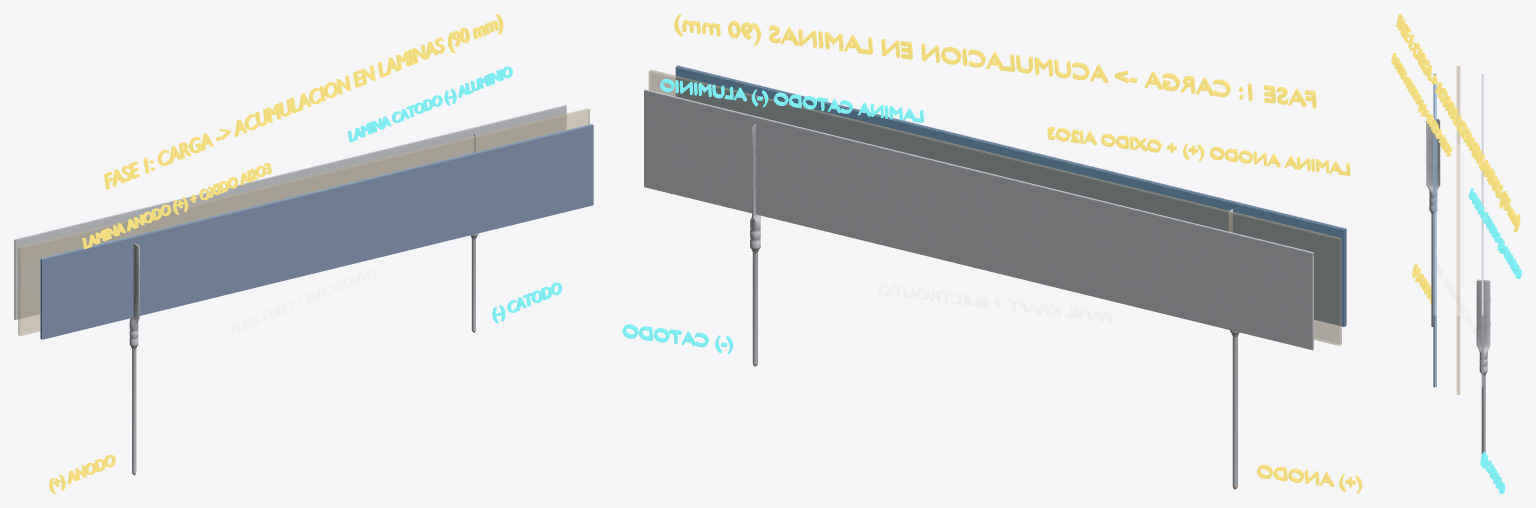
Rendered from 02_Capacitor_Sin_Carcasa_Carga_Campo_Descarga.glb.
3 views of the same model, side by side, from view 1: azimuth 30°, elevation 25°; view 2: azimuth 150°, elevation 25°; view 3: azimuth 270°, elevation 25° (orthographic). The views are drawn at different scales.
Visible parts, largest first — view 1: Lamina_01_Anodo_Al_90mm, Lamina_04_Catodo_Al_90mm, Lamina_03_Papel_Kraft_93mm, Lbl_Est_Carga, Lbl_Anodo_L, Lbl_Catodo_L, Lbl_Kraft_L, 01_Terminal_Anodo_Pos, Lamina_02_Oxido_Al2O3_90mm, Lbl_Pin_Neg, Lbl_Pin_Pos; view 2: Lamina_04_Catodo_Al_90mm, Lamina_02_Oxido_Al2O3_90mm, Lamina_03_Papel_Kraft_93mm, Lbl_Est_Carga, Lbl_Anodo_L, Lbl_Catodo_L, Lbl_Kraft_L, Lamina_01_Anodo_Al_90mm, 01_Terminal_Catodo_Neg, 01_Terminal_Anodo_Pos, Lbl_Pin_Neg, Lbl_Pin_Pos; view 3: Lbl_Est_Carga, Lamina_03_Papel_Kraft_93mm, 01_Terminal_Catodo_Neg, 01_Terminal_Anodo_Pos, Lbl_Anodo_L, Lamina_01_Anodo_Al_90mm, Lbl_Catodo_L, Lamina_04_Catodo_Al_90mm, Lbl_Kraft_L, Lamina_02_Oxido_Al2O3_90mm, Lbl_Pin_Neg, Lbl_Pin_Pos.
Boxes of the visible parts, left/top/right/bottom form: Lamina_01_Anodo_Al_90mm: left=41, top=124, right=593, bottom=339; Lamina_04_Catodo_Al_90mm: left=14, top=105, right=566, bottom=319; Lamina_03_Papel_Kraft_93mm: left=18, top=108, right=589, bottom=336; Lbl_Est_Carga: left=104, top=14, right=503, bottom=189; Lbl_Anodo_L: left=82, top=163, right=271, bottom=248; Lbl_Catodo_L: left=347, top=66, right=512, bottom=142; Lbl_Kraft_L: left=230, top=267, right=376, bottom=334; 01_Terminal_Anodo_Pos: left=129, top=243, right=139, bottom=475; Lamina_02_Oxido_Al2O3_90mm: left=40, top=124, right=591, bottom=338; Lbl_Pin_Neg: left=492, top=282, right=562, bottom=323; Lbl_Pin_Pos: left=49, top=454, right=115, bottom=493; Lamina_04_Catodo_Al_90mm: left=644, top=89, right=1313, bottom=350; Lamina_02_Oxido_Al2O3_90mm: left=675, top=66, right=1344, bottom=326; Lamina_03_Papel_Kraft_93mm: left=648, top=69, right=1341, bottom=345; Lbl_Est_Carga: left=674, top=14, right=1316, bottom=108; Lbl_Anodo_L: left=1047, top=126, right=1350, bottom=175; Lbl_Catodo_L: left=660, top=78, right=923, bottom=122; Lbl_Kraft_L: left=878, top=282, right=1111, bottom=322; Lamina_01_Anodo_Al_90mm: left=677, top=65, right=1346, bottom=326; 01_Terminal_Catodo_Neg: left=750, top=124, right=760, bottom=366; 01_Terminal_Anodo_Pos: left=1228, top=209, right=1239, bottom=489; Lbl_Pin_Neg: left=622, top=324, right=733, bottom=354; Lbl_Pin_Pos: left=1257, top=464, right=1362, bottom=493; Lbl_Est_Carga: left=1396, top=14, right=1520, bottom=231; Lamina_03_Papel_Kraft_93mm: left=1456, top=66, right=1460, bottom=394; 01_Terminal_Catodo_Neg: left=1476, top=279, right=1490, bottom=454; 01_Terminal_Anodo_Pos: left=1426, top=119, right=1440, bottom=326; Lbl_Anodo_L: left=1391, top=53, right=1451, bottom=156; Lamina_01_Anodo_Al_90mm: left=1433, top=73, right=1435, bottom=387; Lbl_Catodo_L: left=1468, top=188, right=1521, bottom=278; Lamina_04_Catodo_Al_90mm: left=1481, top=73, right=1483, bottom=387; Lbl_Kraft_L: left=1435, top=259, right=1476, bottom=338; Lamina_02_Oxido_Al2O3_90mm: left=1435, top=74, right=1436, bottom=386; Lbl_Pin_Neg: left=1480, top=452, right=1505, bottom=493; Lbl_Pin_Pos: left=1412, top=264, right=1435, bottom=303.
Size of what is drawn, in the model's own units: 93 by 50.75 by 20.56.
Materials: 15 (10 with a texture image).
